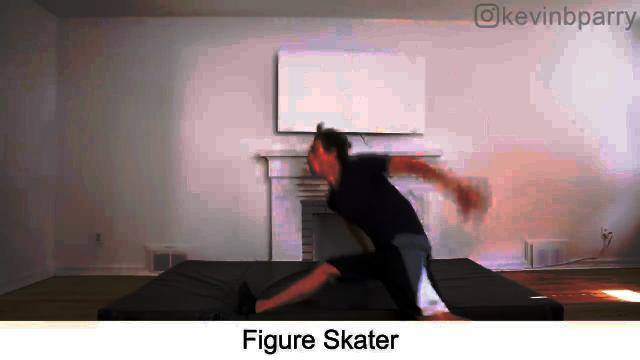jatuh: (208, 125, 504, 319)
